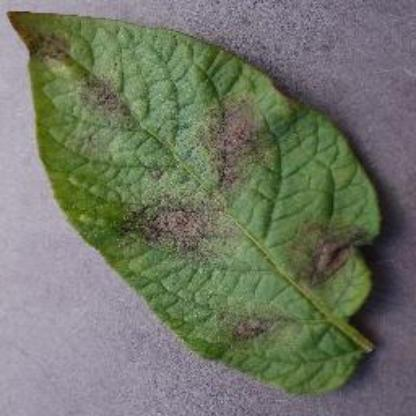Late-Blight: (7, 7, 396, 401)
